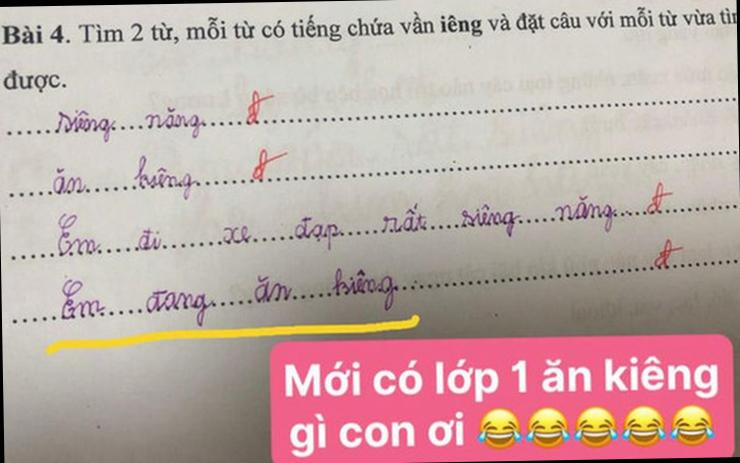text: (55, 179, 676, 258), (0, 1, 736, 50), (283, 350, 720, 407), (58, 266, 400, 331), (50, 147, 290, 205), (54, 88, 276, 144), (289, 409, 466, 459), (1, 65, 67, 95), (652, 240, 684, 268)
